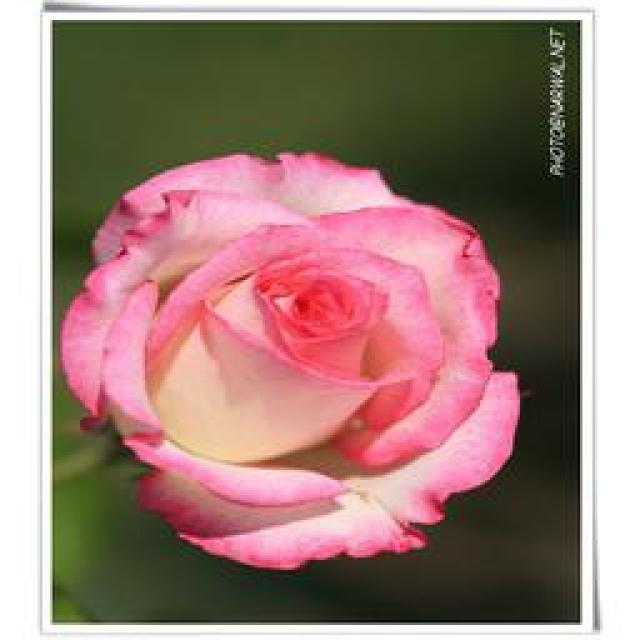rose: (58, 129, 557, 565)
